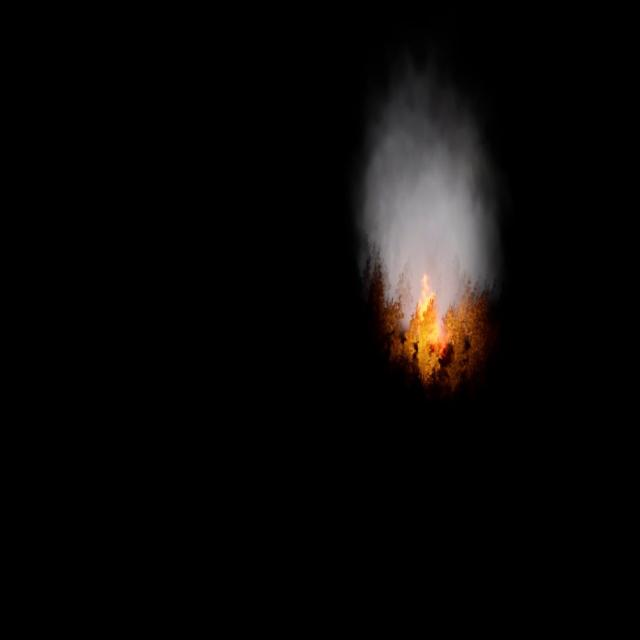fire: (414, 272, 442, 340)
smoke: (355, 52, 500, 325)
